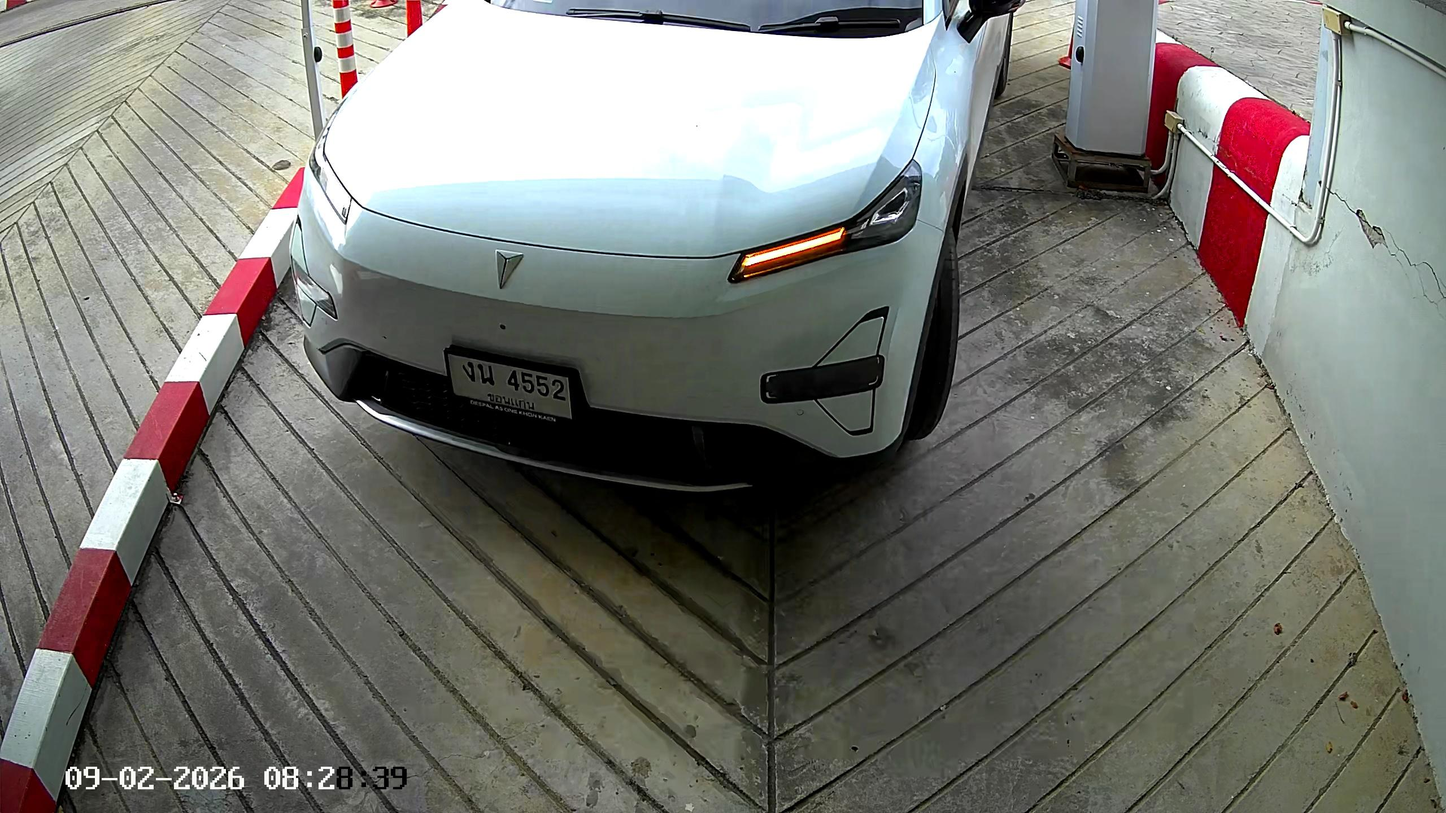car: (294, 5, 1020, 489)
license-plate: (443, 340, 581, 429)
